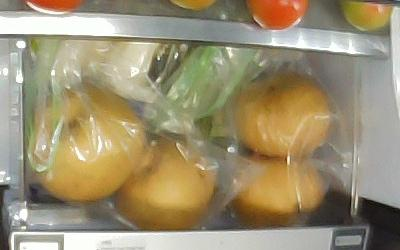pear_vinyl: (32, 84, 145, 203), (112, 135, 215, 231), (233, 72, 331, 157), (230, 154, 324, 227)
